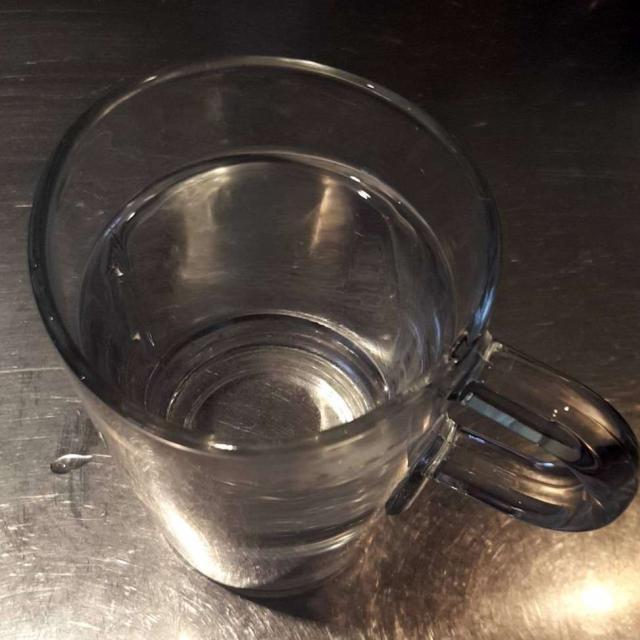water: (86, 137, 450, 438)
